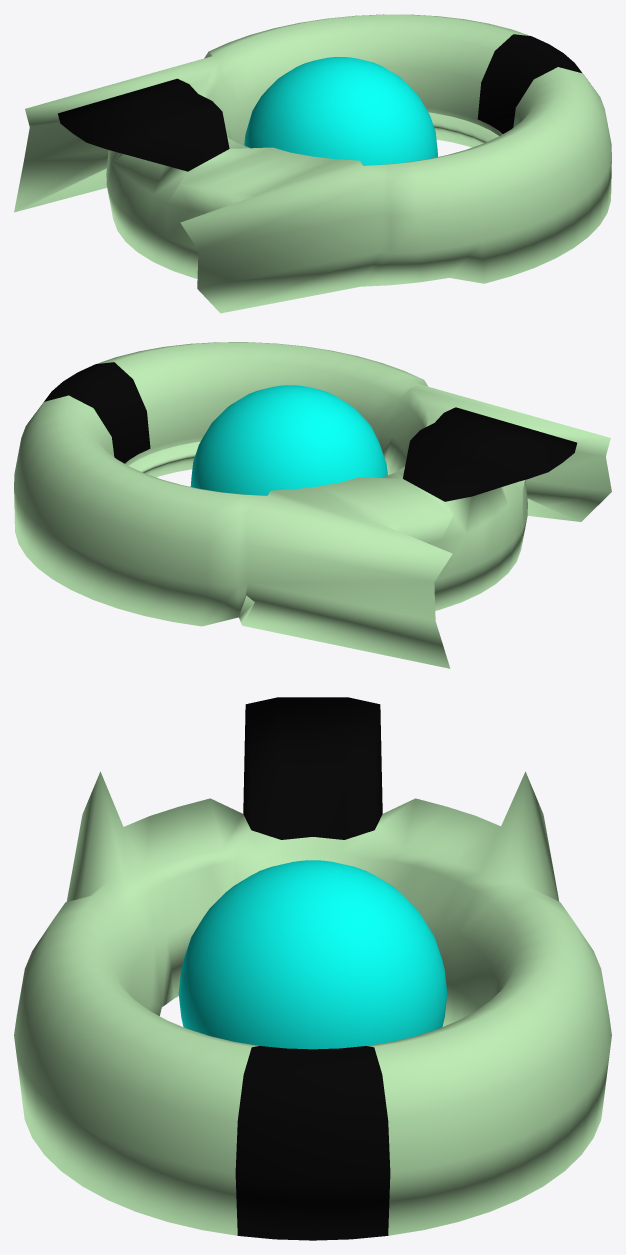
The model's file is vaisseauEnnemy.fbx.
3 renders of one model, top to bottom at view 1: azimuth 30°, elevation 25°; view 2: azimuth 150°, elevation 25°; view 3: azimuth 270°, elevation 25°, orthographic. The views are drawn at different scales.
Parts seen in each view (by area): view 1: Torus, Sphere; view 2: Torus, Sphere; view 3: Torus, Sphere.
Part boxes in pixels (x1,y1,x2,y2): Torus: (14,14,611,313); Sphere: (244,57,437,165); Torus: (14,342,611,668); Sphere: (190,385,387,495); Torus: (14,697,611,1240); Sphere: (178,860,447,1049).
Size of the model in its own units: 611 by 209 by 451.
